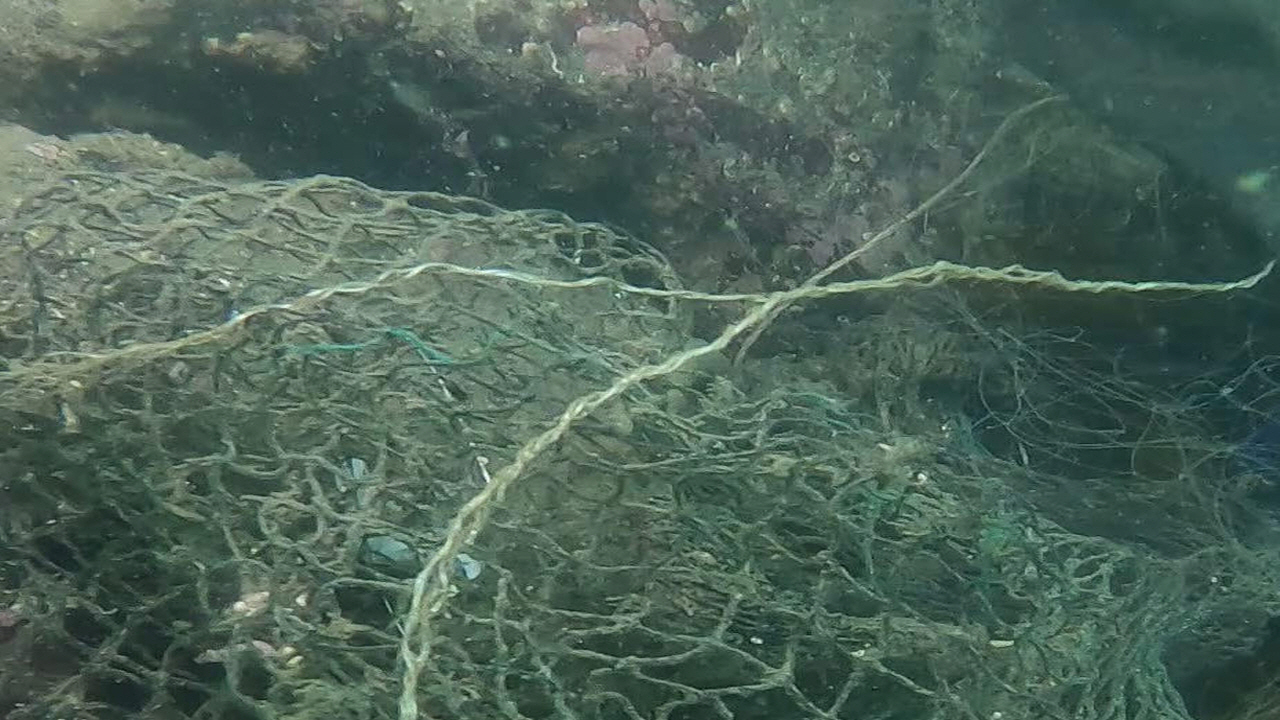fish net: (0, 173, 1280, 720)
